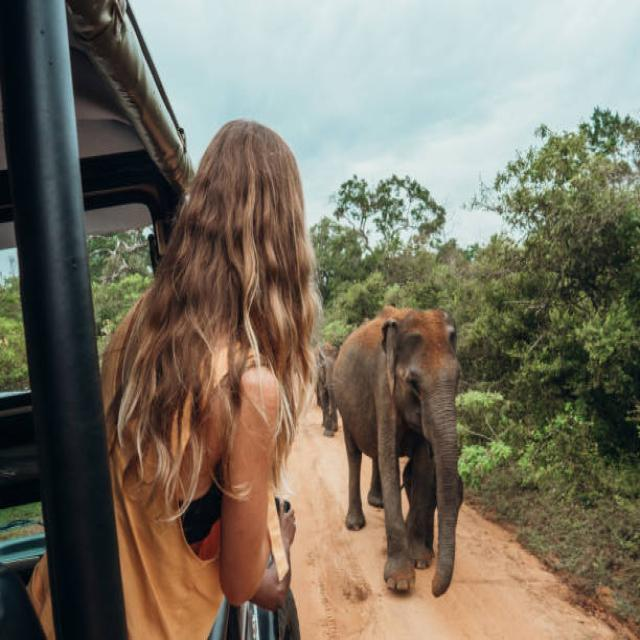Elephant: (331, 299, 482, 598)
